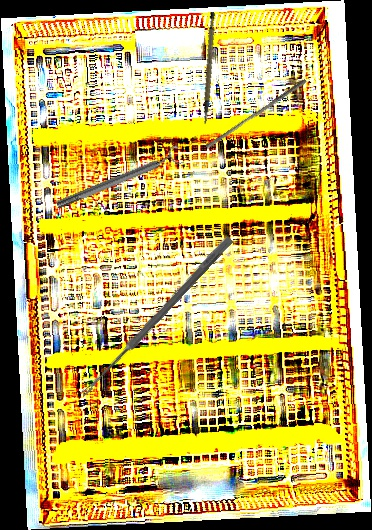Fixation Ring: (52, 143, 186, 215)
Pusher: (204, 74, 308, 153)
Scalpel Handle: (186, 11, 230, 126)
Surgical Spoon: (79, 234, 234, 400)
